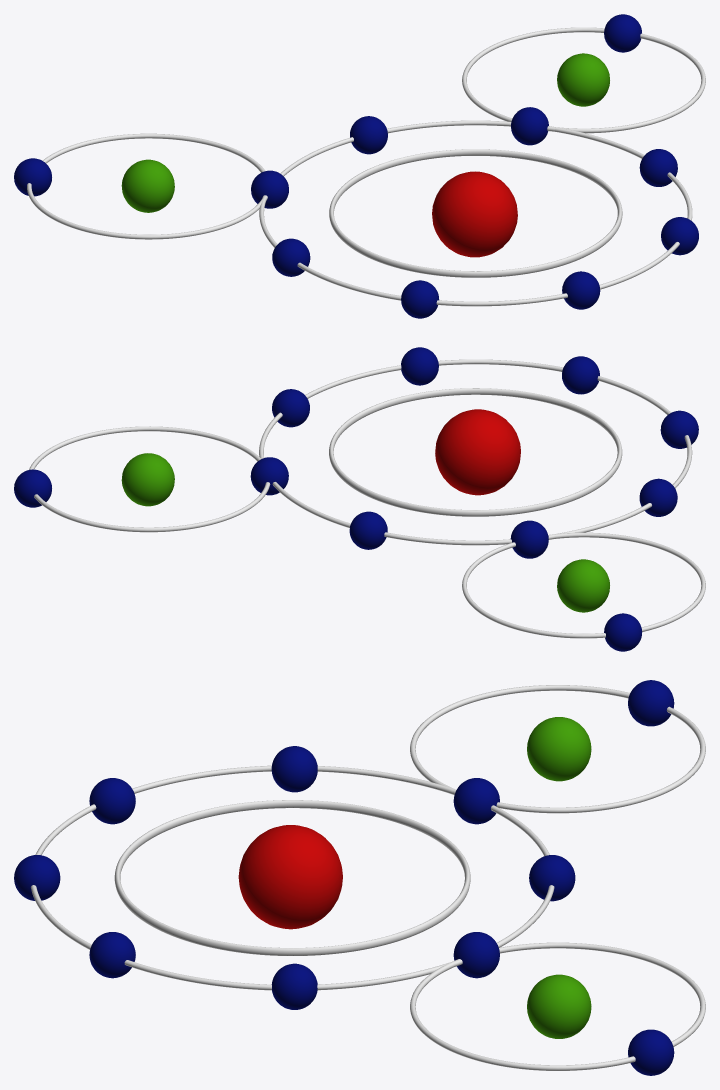
Rendered from water atom.FBX.
3 views of the same model, one above another, from view 1: azimuth 30°, elevation 25°; view 2: azimuth 150°, elevation 25°; view 3: azimuth 270°, elevation 25° (orthographic). The views are drawn at different scales.
Parts seen in each view (by area): view 1: Sphere022, Circle008, Circle007, Circle009, Circle002, Sphere001, Sphere032, Sphere023, Sphere031, Sphere027, Sphere030, Sphere026 (+5 smaller); view 2: Sphere022, Circle008, Circle007, Circle002, Circle009, Sphere032, Sphere001, Sphere025, Sphere030, Sphere026, Sphere033, Sphere029 (+5 smaller); view 3: Sphere022, Circle008, Circle007, Circle002, Circle009, Sphere001, Sphere032, Sphere028, Sphere024, Sphere027, Sphere033, Sphere031 (+5 smaller).
Part boxes in pixels (<box>): Sphere022: <box>432,171,517,257</box>; Circle008: <box>329,149,622,277</box>; Circle007: <box>259,120,692,306</box>; Circle009: <box>27,133,267,239</box>; Circle002: <box>462,27,705,133</box>; Sphere001: <box>557,53,609,106</box>; Sphere032: <box>121,159,174,212</box>; Sphere023: <box>511,107,548,145</box>; Sphere031: <box>604,14,641,52</box>; Sphere027: <box>401,280,439,318</box>; Sphere030: <box>350,116,387,154</box>; Sphere026: <box>562,271,600,309</box>; Sphere022: <box>435,409,520,495</box>; Circle008: <box>329,388,622,516</box>; Circle007: <box>259,359,692,545</box>; Circle002: <box>29,426,270,532</box>; Circle009: <box>462,532,705,638</box>; Sphere032: <box>557,559,609,612</box>; Sphere001: <box>121,453,174,506</box>; Sphere025: <box>401,347,438,385</box>; Sphere030: <box>349,511,387,549</box>; Sphere026: <box>562,356,599,394</box>; Sphere033: <box>604,613,642,651</box>; Sphere029: <box>510,520,548,558</box>; Sphere022: <box>238,825,342,929</box>; Circle008: <box>114,800,470,955</box>; Circle007: <box>31,765,554,990</box>; Circle002: <box>410,942,705,1070</box>; Circle009: <box>410,685,705,813</box>; Sphere001: <box>527,974,591,1038</box>; Sphere032: <box>527,717,591,781</box>; Sphere028: <box>271,746,317,792</box>; Sphere024: <box>271,963,317,1009</box>; Sphere027: <box>89,778,135,824</box>; Sphere033: <box>628,680,674,726</box>; Sphere031: <box>628,1029,674,1075</box>.
Size of the model in its own units: 156 by 18 by 119.
